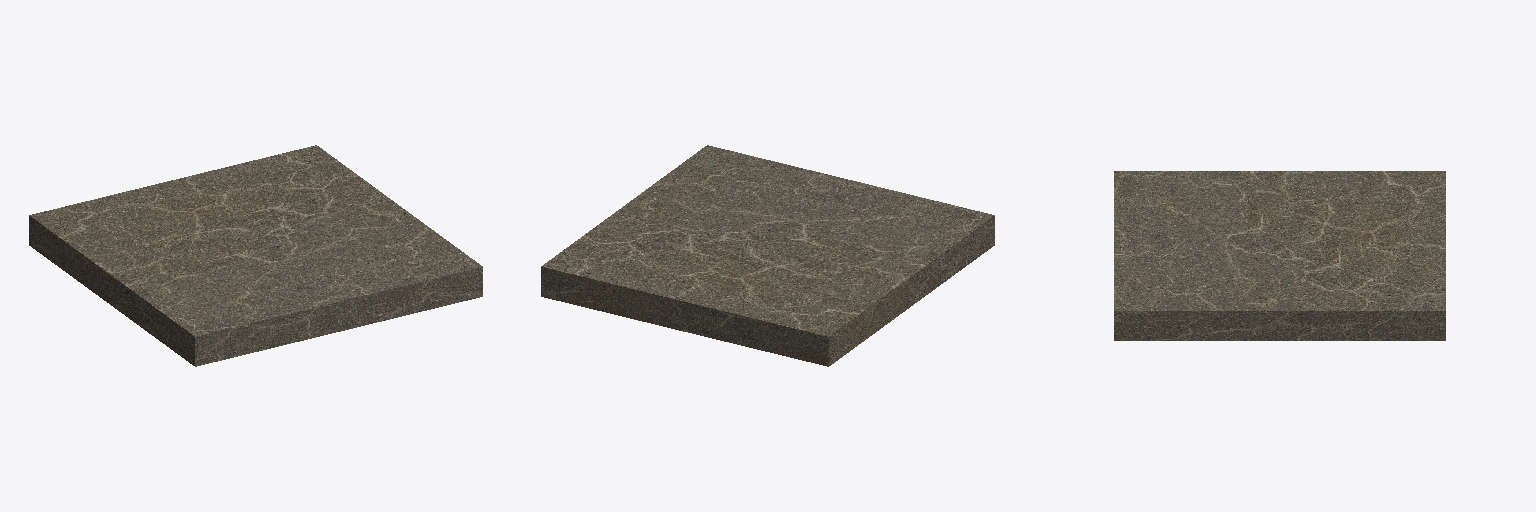
The picture shows the model from 3 angles: view 1: azimuth 30°, elevation 25°; view 2: azimuth 150°, elevation 25°; view 3: azimuth 270°, elevation 25°; orthographic projection.
Parts seen in each view (by area): view 1: normalcubitoforpereNormalMapOnBumpmapping.obj; view 2: normalcubitoforpereNormalMapOnBumpmapping.obj; view 3: normalcubitoforpereNormalMapOnBumpmapping.obj.
Boxes of the visible parts, <box> form: normalcubitoforpereNormalMapOnBumpmapping.obj: <box>29,145,482,366</box>; normalcubitoforpereNormalMapOnBumpmapping.obj: <box>541,145,994,366</box>; normalcubitoforpereNormalMapOnBumpmapping.obj: <box>1114,171,1445,340</box>.
Bounding box in the file's own units: 1 × 0.1 × 1.
1 materials, 1 textured.